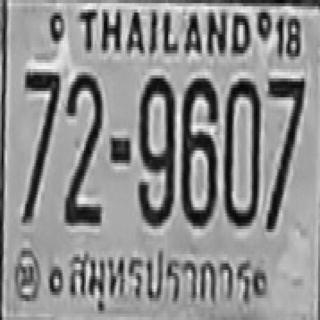N00: (223, 74, 259, 224)
N02: (64, 69, 101, 223)
N06: (181, 75, 216, 223)
N07: (265, 74, 304, 227), (22, 69, 59, 220), (23, 69, 59, 198)
N09: (136, 72, 174, 223)
P57: (64, 239, 257, 318)
